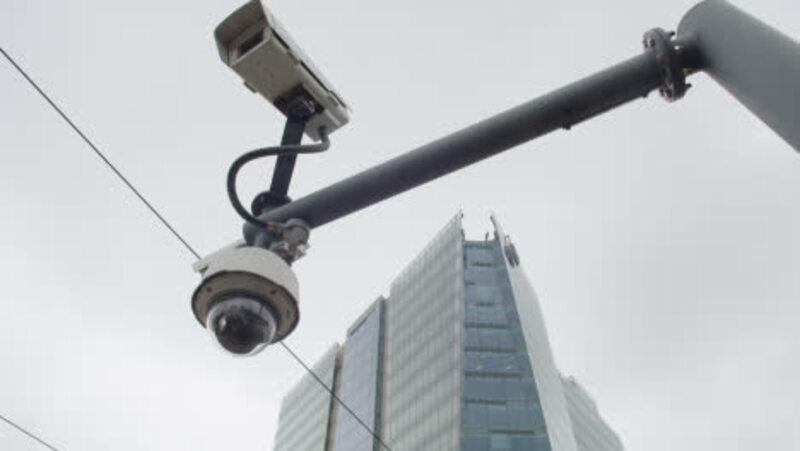box: (203, 3, 357, 144)
dome: (183, 253, 302, 362)
